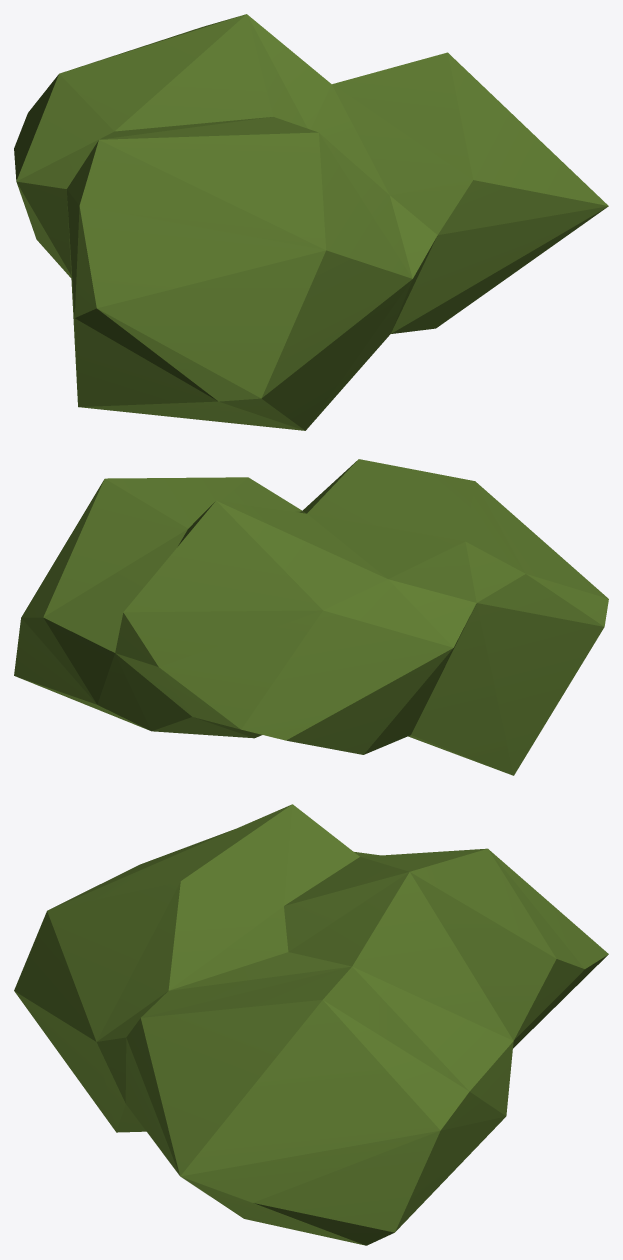
Rendered from BushA.glb.
The picture shows the model from 3 angles, top to bottom: view 1: azimuth 30°, elevation 25°; view 2: azimuth 150°, elevation 25°; view 3: azimuth 270°, elevation 25°; orthographic projection. The views are drawn at different scales.
Parts seen in each view (by area): view 1: BushA_LOD0; view 2: BushA_LOD0; view 3: BushA_LOD0.
Part boxes in pixels (x1,y1,x2,y2): BushA_LOD0: [14, 14, 608, 430]; BushA_LOD0: [14, 459, 608, 775]; BushA_LOD0: [14, 804, 608, 1245].
Size of what is drawn, in the model's own units: 0.9679 by 0.5009 by 0.8923.
